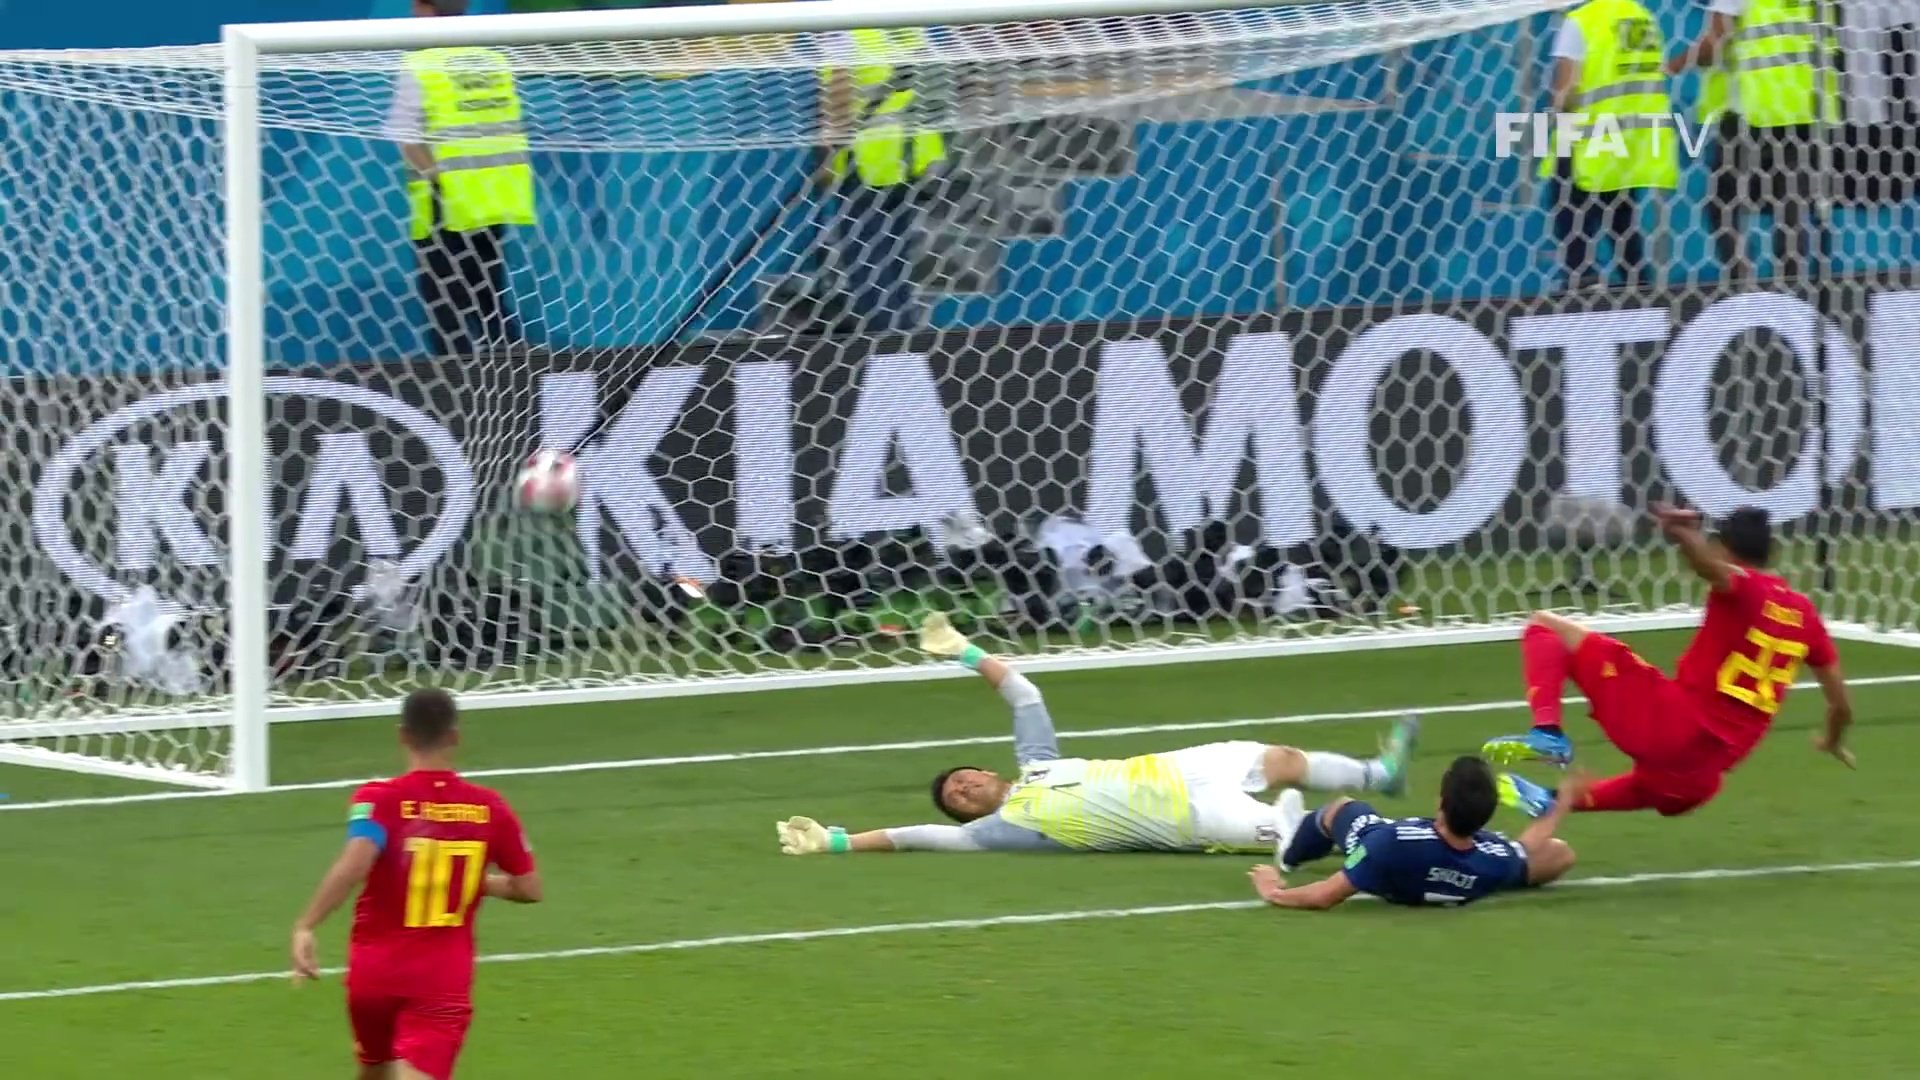ball: (516, 451, 581, 514)
person: (775, 608, 1410, 843), (1487, 496, 1856, 814), (279, 682, 537, 1080), (1265, 759, 1575, 908)
